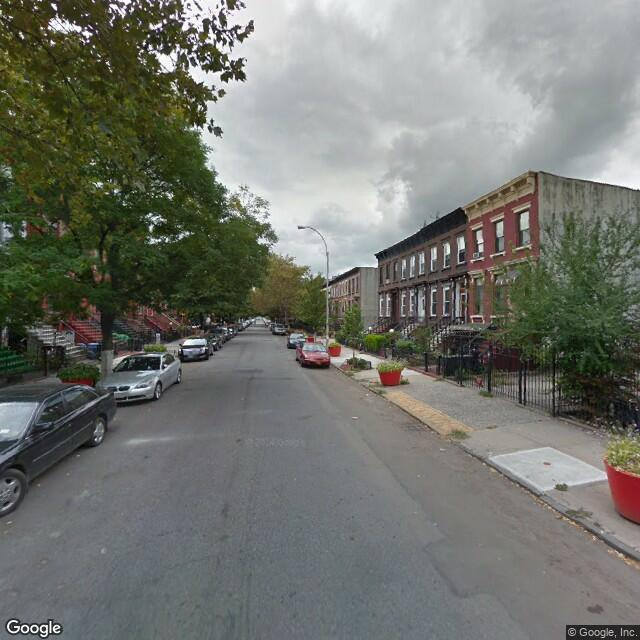litter: (348, 411, 361, 423)
